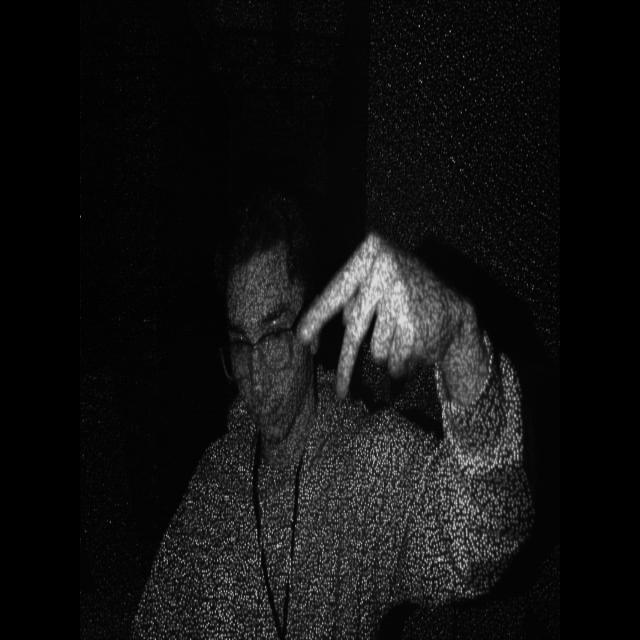P: (294, 223, 436, 414)
